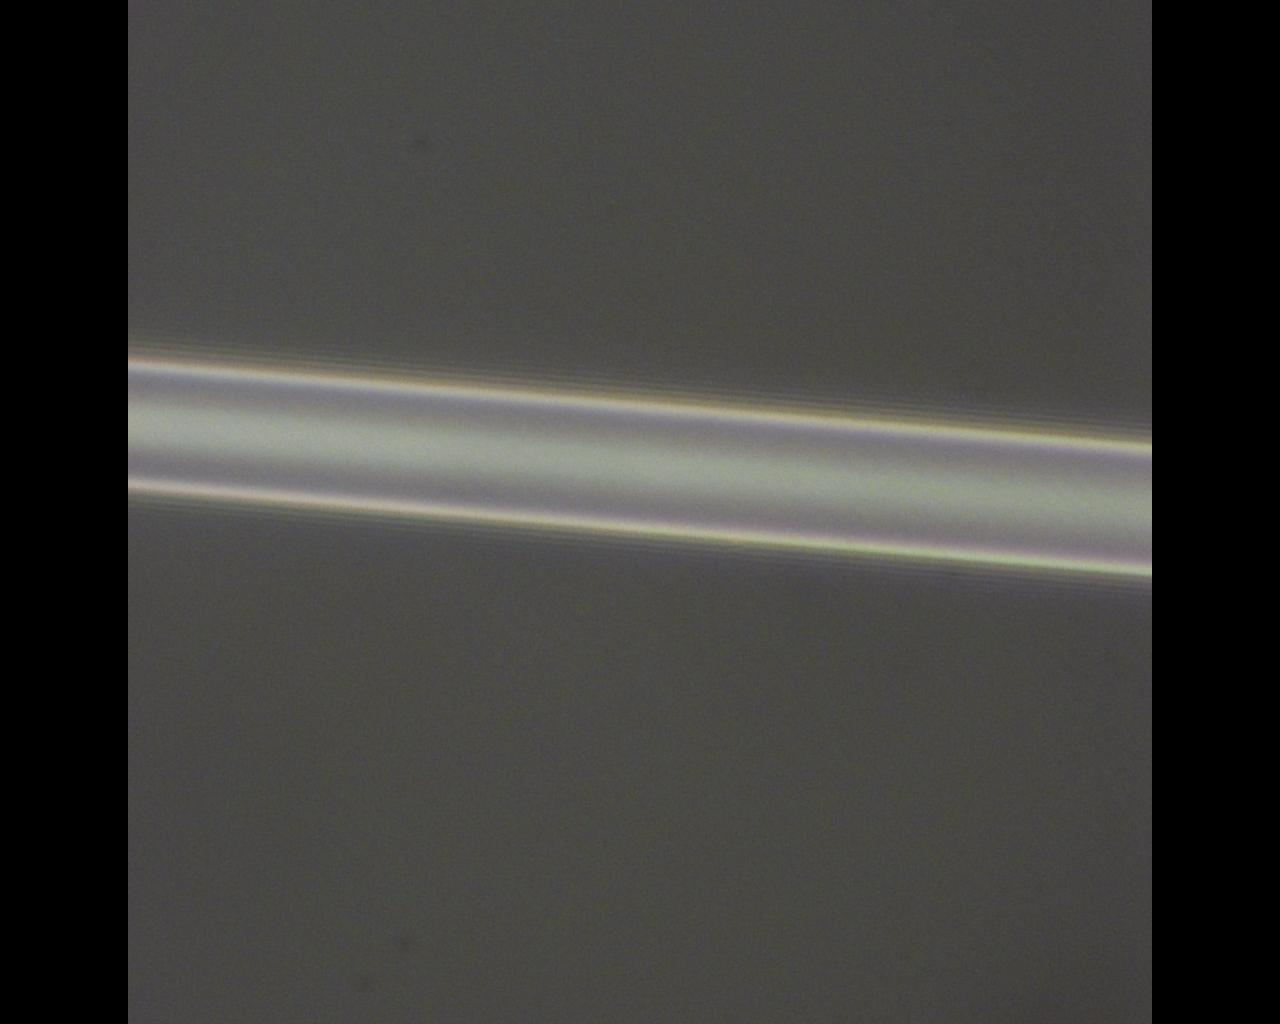fiber: (128, 351, 1152, 579)
